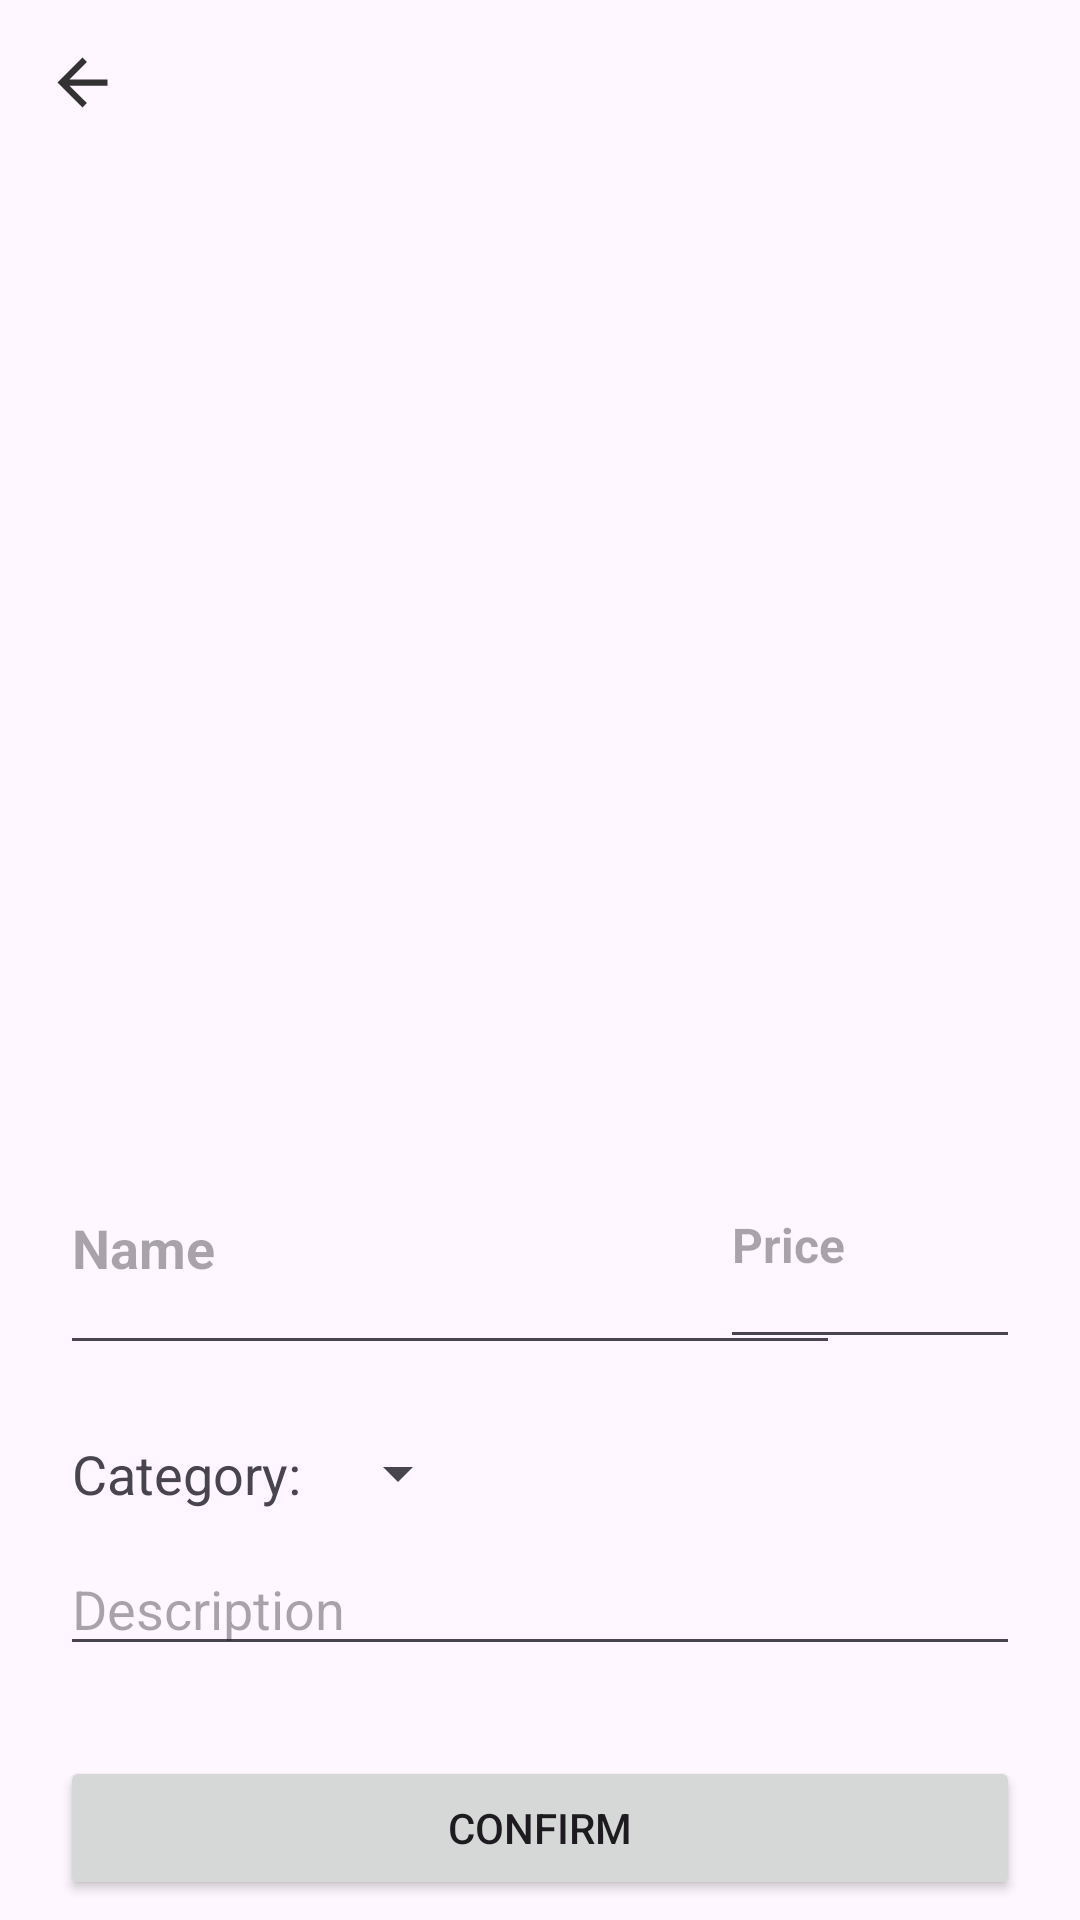

Screen size 1080 x 1920. Icon name, then its box in pixels as (x1, y1, x2, y2):
back: (57, 57, 108, 108)
